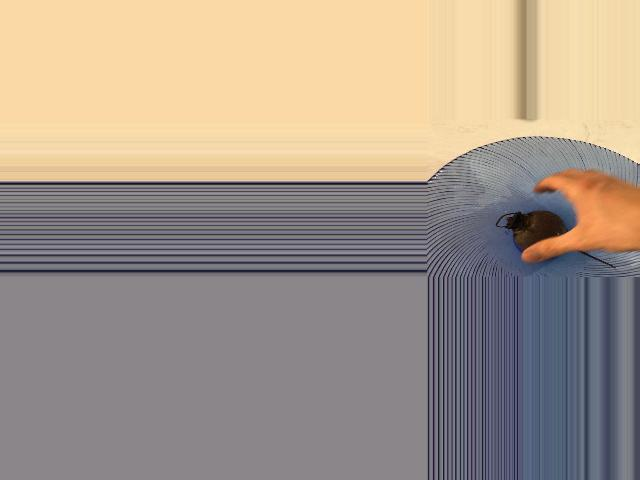beet: (495, 210, 614, 268)
